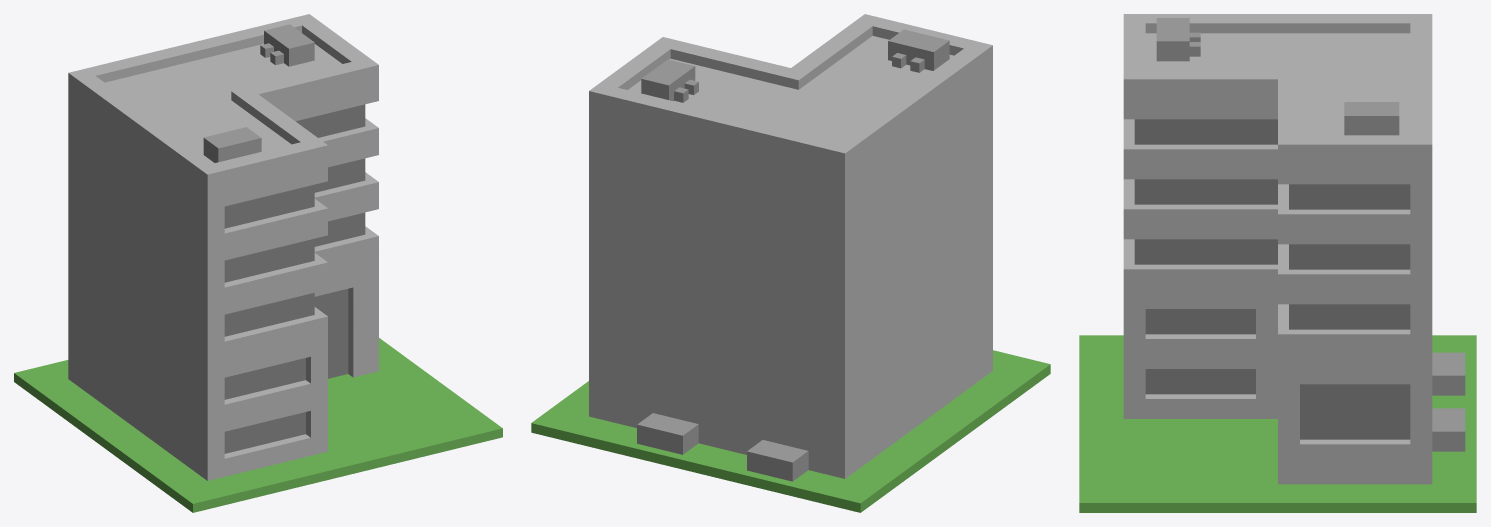
The picture shows the model from 3 angles, left to right: view 1: azimuth 30°, elevation 25°; view 2: azimuth 150°, elevation 25°; view 3: azimuth 270°, elevation 25°; orthographic projection. The views are drawn at different scales.
Parts seen in each view (by area): view 1: 2; view 2: 2; view 3: 2.
Boxes of the visible parts, box(x1,y1,x2,y2) form: 2: box(14, 14, 502, 512); 2: box(531, 14, 1050, 512); 2: box(1079, 14, 1476, 512).
Size of the model in its own units: 900 by 900 by 900.
